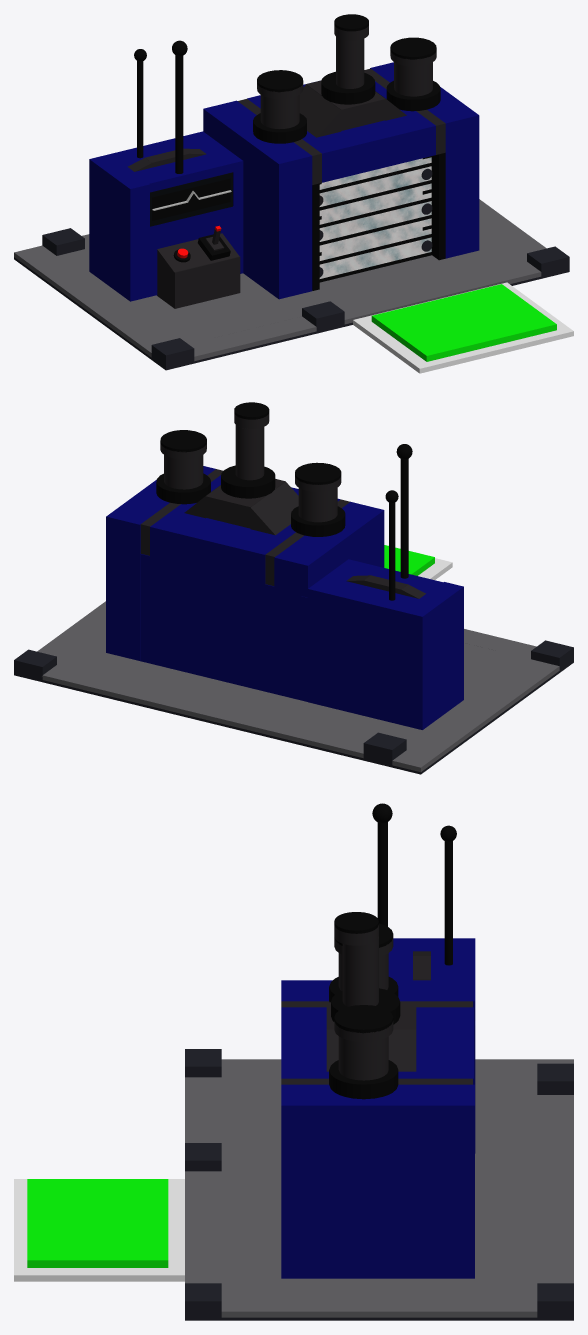
File: fuxeMachine.obj
3 renders of one model, top to bottom at view 1: azimuth 30°, elevation 25°; view 2: azimuth 150°, elevation 25°; view 3: azimuth 270°, elevation 25°, orthographic. The views are drawn at different scales.
Parts seen in each view (by area): view 1: Part57, Part47, Multiplierpart1, Part58, Part56, Part74, Part8, Part9, Part11, Part12, Part4, Part5 (+41 smaller); view 2: Part63, Part65, Part23, Part57, Part55, Part56, Part58, Part5, Part12, Part19, Part88, Part15 (+24 smaller); view 3: Part56, Part23, Multiplierpart1, Part19, Part9, Part8, Part4, Part74, Part63, Part11, Part57, Part5 (+26 smaller).
Boxes of the visible parts, bbox=[...] form: Part57: bbox=[203, 100, 312, 299]; Part47: bbox=[319, 157, 431, 278]; Multiplierpart1: bbox=[371, 284, 556, 361]; Part58: bbox=[90, 155, 149, 301]; Part56: bbox=[370, 62, 479, 258]; Part74: bbox=[302, 85, 435, 182]; Part8: bbox=[279, 233, 544, 315]; Part9: bbox=[311, 258, 493, 324]; Part11: bbox=[175, 287, 301, 337]; Part12: bbox=[94, 295, 213, 356]; Part4: bbox=[353, 282, 573, 373]; Part5: bbox=[28, 254, 155, 357]; Part63: bbox=[150, 512, 283, 691]; Part65: bbox=[308, 573, 442, 729]; Part23: bbox=[42, 646, 401, 758]; Part57: bbox=[274, 502, 384, 701]; Part55: bbox=[140, 554, 274, 693]; Part56: bbox=[106, 466, 215, 660]; Part58: bbox=[404, 582, 463, 729]; Part5: bbox=[406, 657, 559, 761]; Part12: bbox=[464, 651, 558, 713]; Part19: bbox=[37, 601, 105, 663]; Part88: bbox=[250, 482, 298, 535]; Part15: bbox=[16, 660, 573, 774]; Part56: bbox=[281, 1084, 474, 1278]; Part23: bbox=[475, 1095, 573, 1294]; Multiplierpart1: bbox=[27, 1179, 168, 1267]; Part19: bbox=[221, 1278, 537, 1317]; Part9: bbox=[185, 1171, 273, 1264]; Part8: bbox=[221, 1153, 298, 1311]; Part4: bbox=[14, 1179, 184, 1281]; Part74: bbox=[281, 1007, 424, 1078]; Part63: bbox=[424, 1007, 473, 1084]; Part11: bbox=[221, 1098, 281, 1153]; Part57: bbox=[281, 980, 474, 1084]; Part5: bbox=[221, 1059, 537, 1082].
Bounding box in the file's own units: 24.1 × 14.29 × 22.61.
14 materials, 1 textured.
